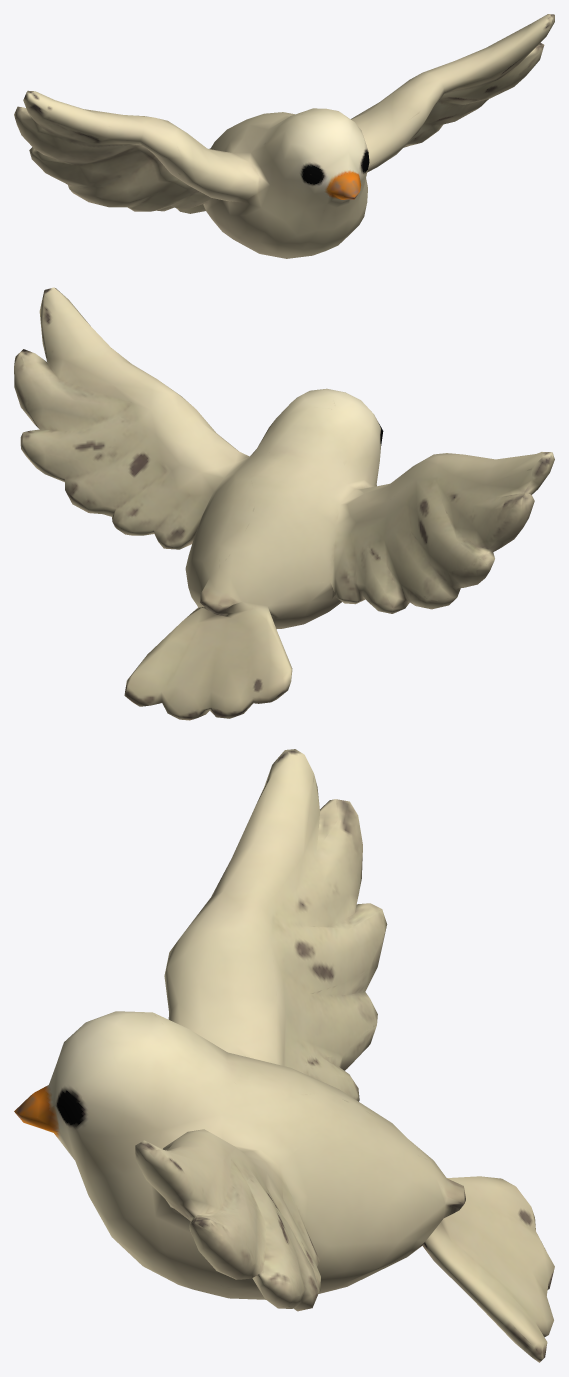
Rendered from bird.glb.
3 views of the same model, one above another, from view 1: azimuth 30°, elevation 25°; view 2: azimuth 150°, elevation 25°; view 3: azimuth 270°, elevation 25° (orthographic). The views are drawn at different scales.
Parts seen in each view (by area): view 1: bird; view 2: bird; view 3: bird.
Part boxes in pixels (bbox=[...]): bird: bbox=[14, 14, 554, 258]; bird: bbox=[14, 287, 554, 720]; bird: bbox=[14, 749, 554, 1362].
Size of the model in its own units: 1 by 0.4553 by 0.5777.
Materials: 1 (1 with a texture image).
